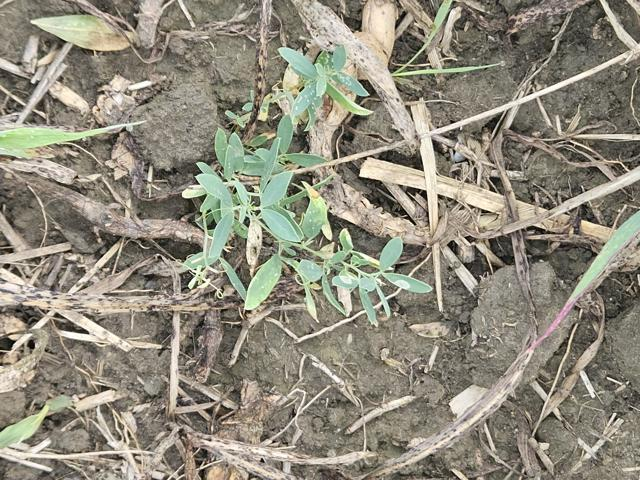bad weed: (187, 53, 440, 346)
